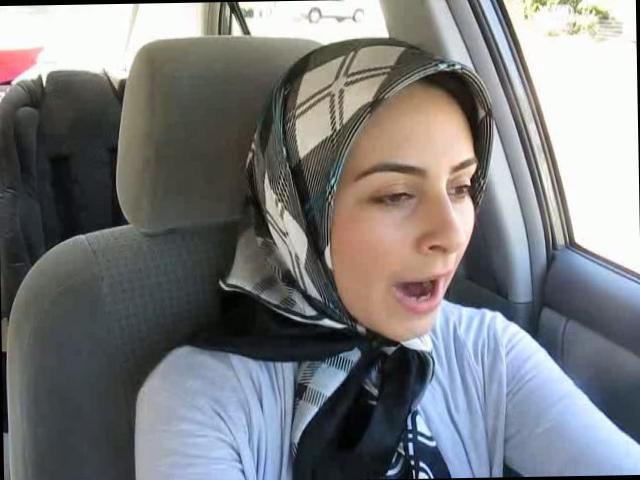eye_open: (364, 187, 418, 210), (448, 179, 471, 199)
face: (337, 142, 480, 346)
mouth_open: (388, 264, 452, 316)
